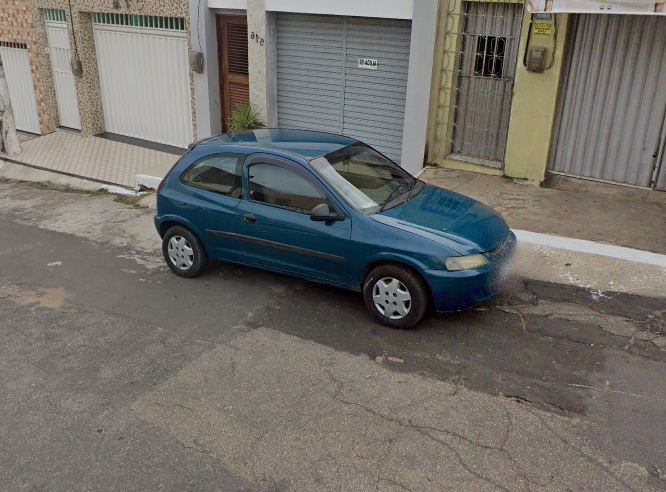car: (148, 98, 528, 333)
